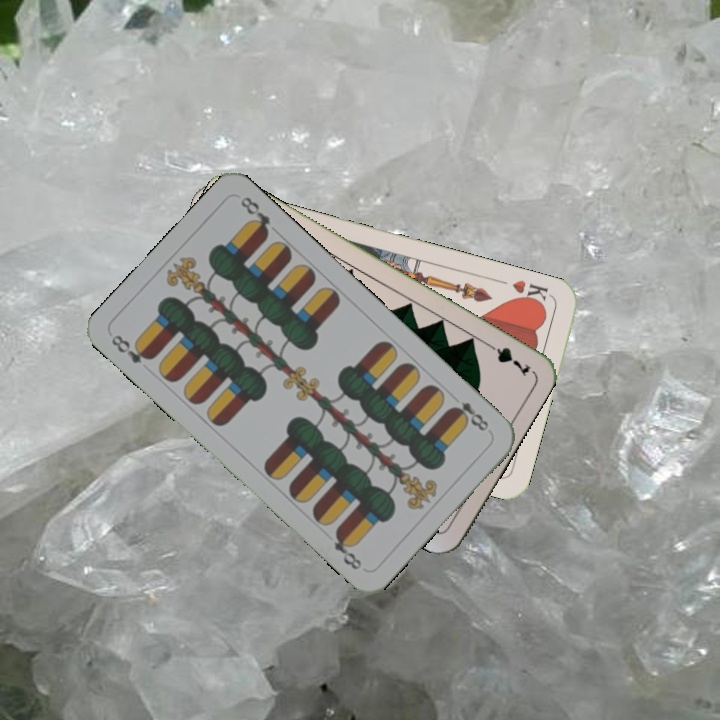E8: (107, 330, 156, 367), (446, 397, 492, 434)
G7: (480, 337, 534, 379)
HK: (508, 275, 554, 309)
